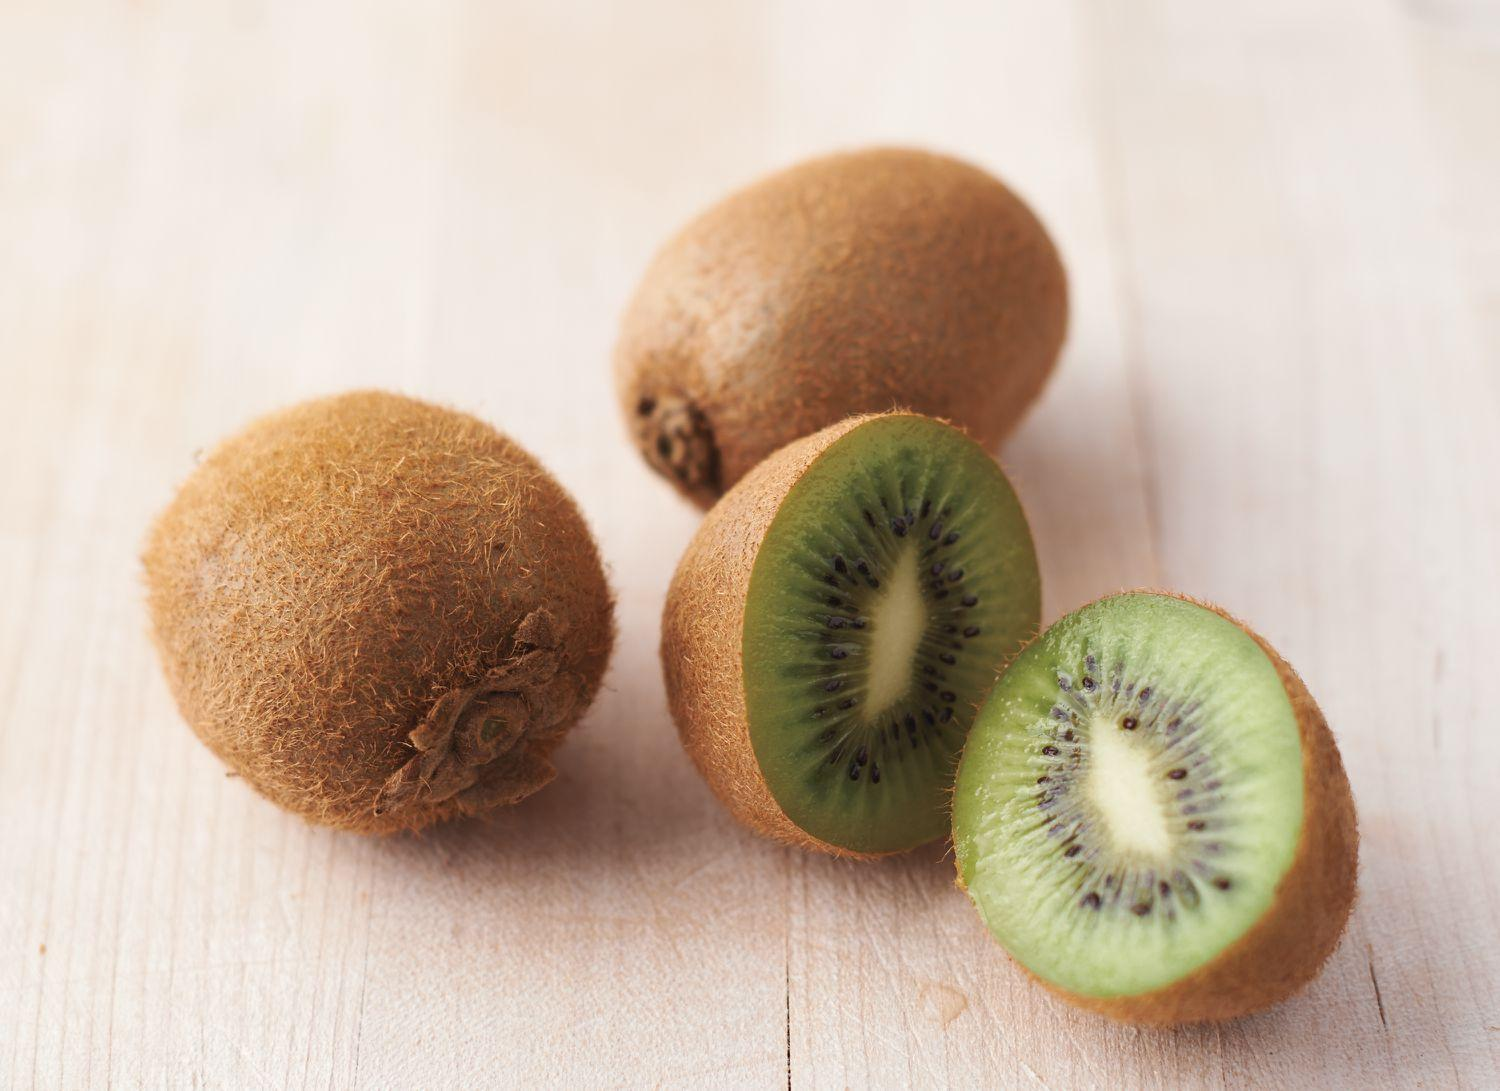kiwi: (134, 370, 621, 879), (944, 590, 1370, 1042), (658, 395, 1004, 915)
